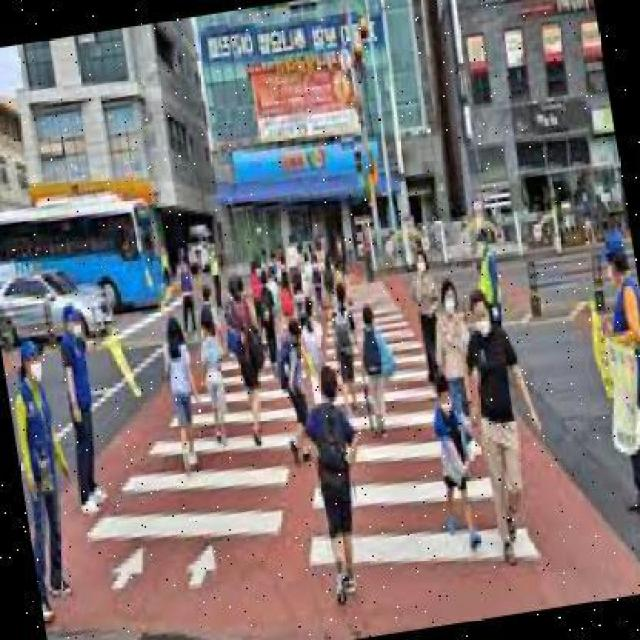Person: (450, 286, 552, 566), (1, 333, 93, 627), (292, 364, 382, 608), (583, 229, 639, 534), (46, 300, 126, 511), (422, 370, 489, 556), (218, 269, 274, 448), (157, 312, 206, 474), (403, 244, 451, 390), (191, 306, 240, 448), (321, 272, 370, 413), (348, 302, 399, 436)
